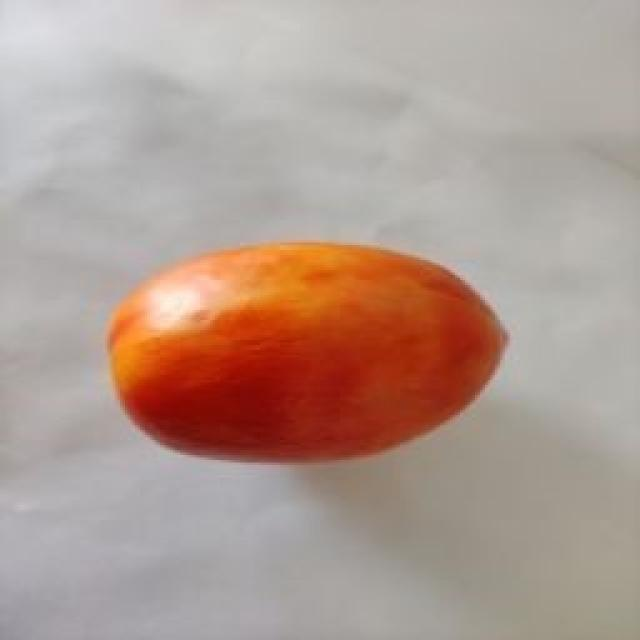Ripe: (105, 239, 516, 466)
